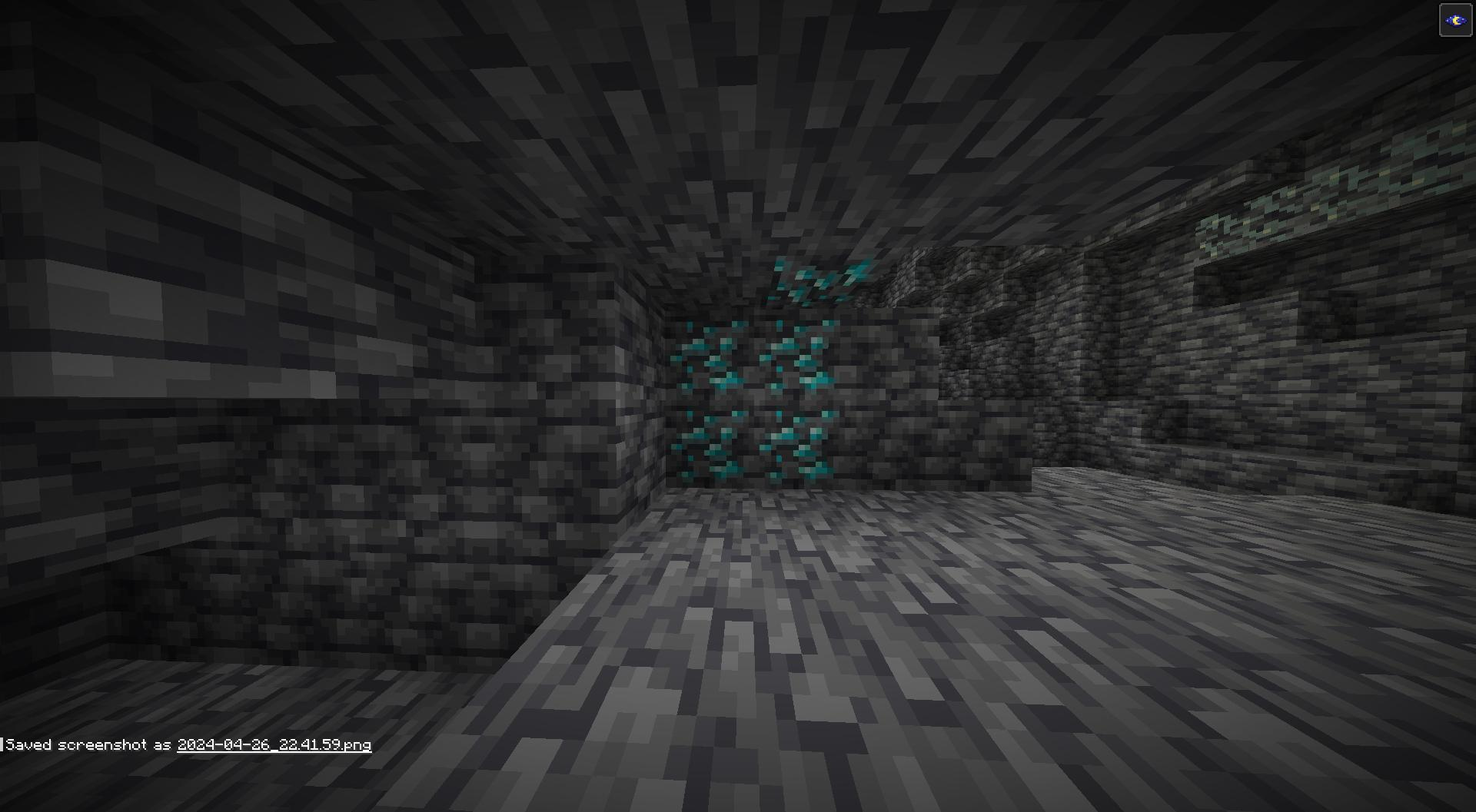diamond ore: (754, 407, 839, 488), (673, 402, 753, 486), (666, 315, 750, 395), (757, 251, 873, 308), (756, 316, 840, 394)
